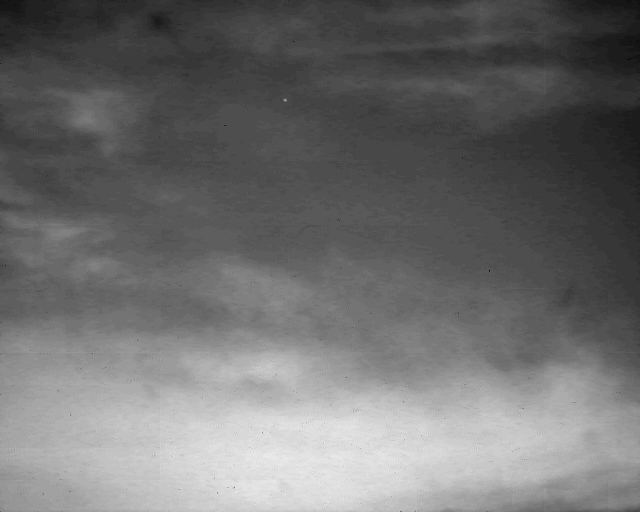Target: (283, 99, 288, 102)
